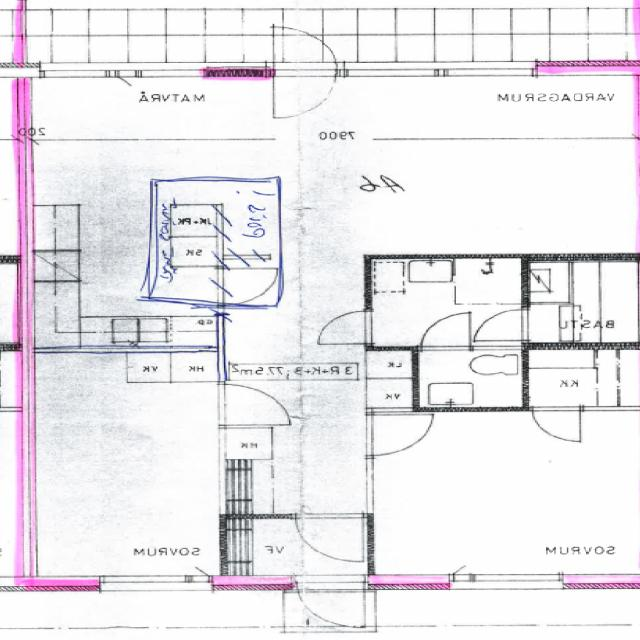door: (297, 574, 363, 634), (273, 18, 337, 76), (273, 61, 337, 118), (294, 513, 362, 563), (220, 384, 288, 425), (364, 415, 431, 455), (316, 311, 372, 343), (474, 308, 530, 339), (423, 314, 470, 350), (533, 407, 581, 442)
